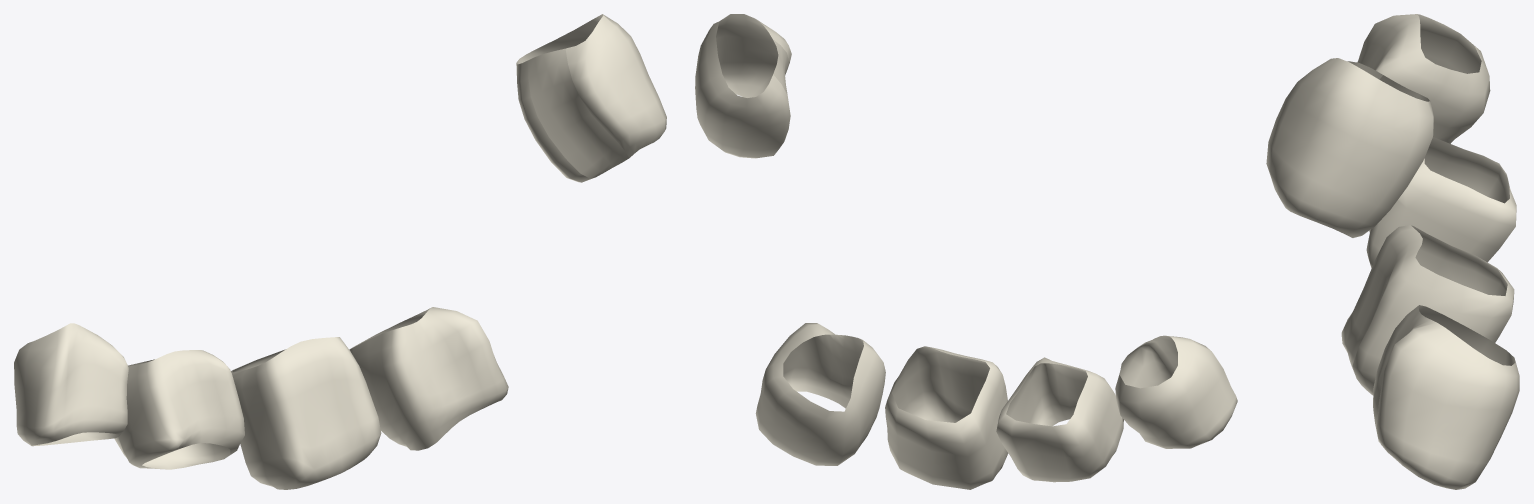
The picture shows the model from 3 angles, left to right: view 1: azimuth 30°, elevation 25°; view 2: azimuth 150°, elevation 25°; view 3: azimuth 270°, elevation 25°; orthographic projection. The views are drawn at different scales.
Visible parts, largest first — view 1: ZA_698af4cc10064352; view 2: ZA_698af4cc10064352; view 3: ZA_698af4cc10064352.
Part boxes in pixels (bbox=[...]): ZA_698af4cc10064352: bbox=[14, 14, 666, 489]; ZA_698af4cc10064352: bbox=[695, 14, 1237, 489]; ZA_698af4cc10064352: bbox=[1266, 14, 1519, 489].
Bounding box in the file's own units: 0.0924 × 0.0614 × 0.0286.
